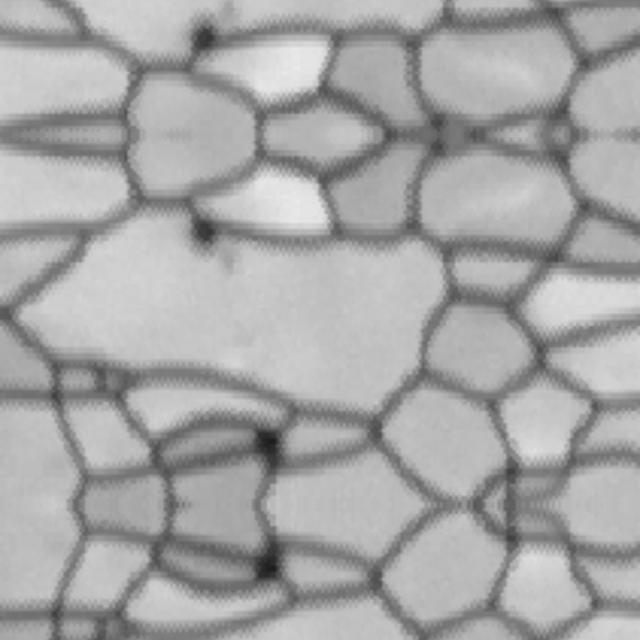good_void: (172, 202, 257, 294), (237, 420, 294, 480), (237, 532, 294, 592), (86, 364, 113, 401), (89, 613, 110, 640)
